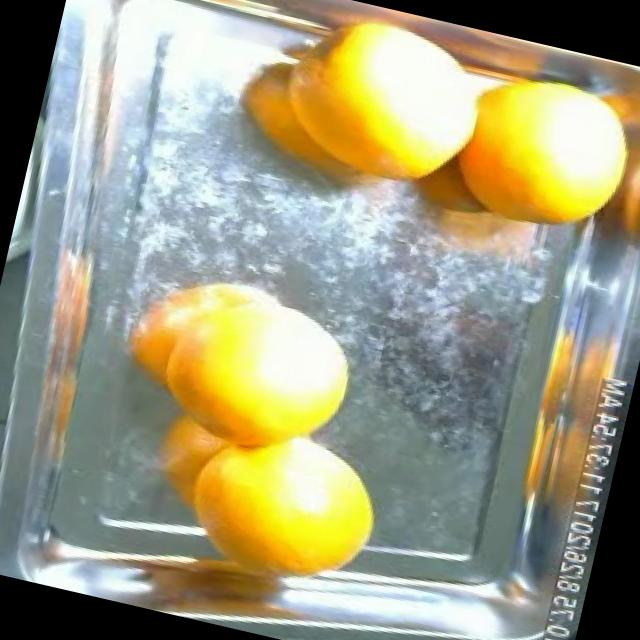Fruit: (377, 7, 570, 98)
